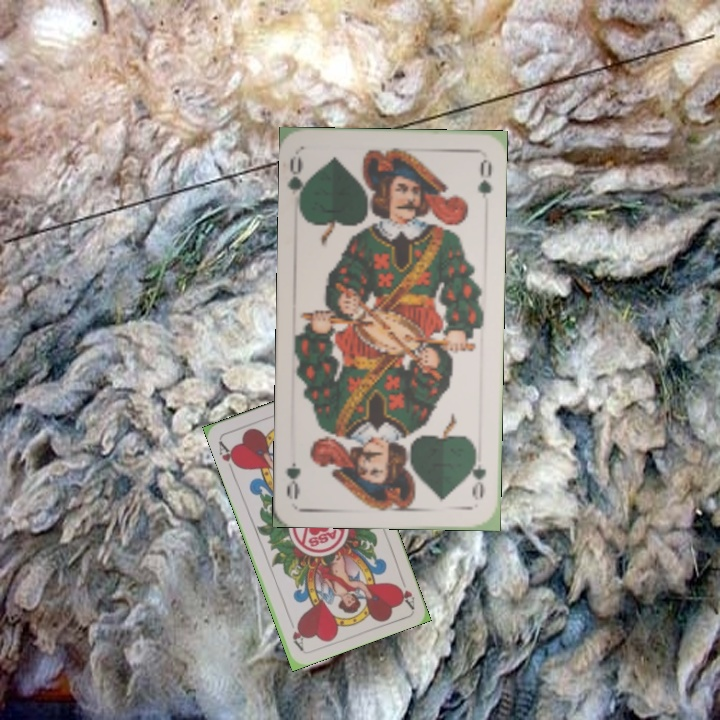GO: (285, 152, 312, 211), (466, 445, 489, 503)
HA: (214, 437, 242, 475), (392, 571, 417, 610)
